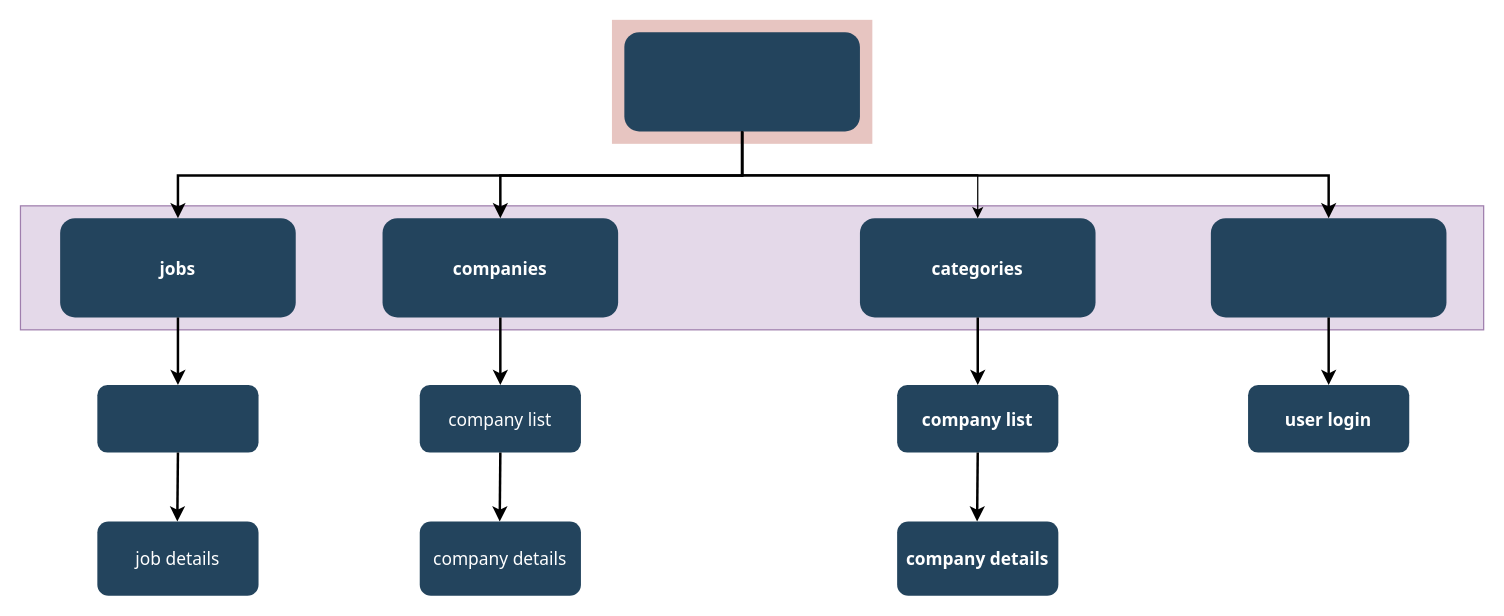
Image size: 1504x616. Some labels were removed from this diagram. The shapes that lost their labels are listed below. From the top down, each one's centre as x and y in pixels, then its label:
At [741,81]: "startsite".
At [1328,267]: "user".
At [177,418]: "Job Listing".
